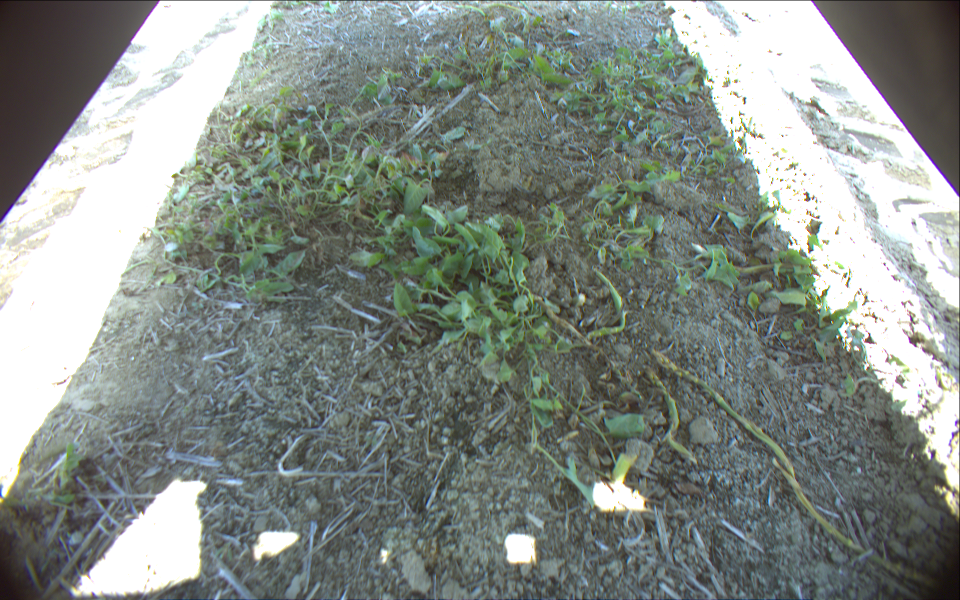aspa: (653, 351, 934, 588), (644, 365, 697, 465), (587, 269, 627, 340), (612, 453, 632, 486)
